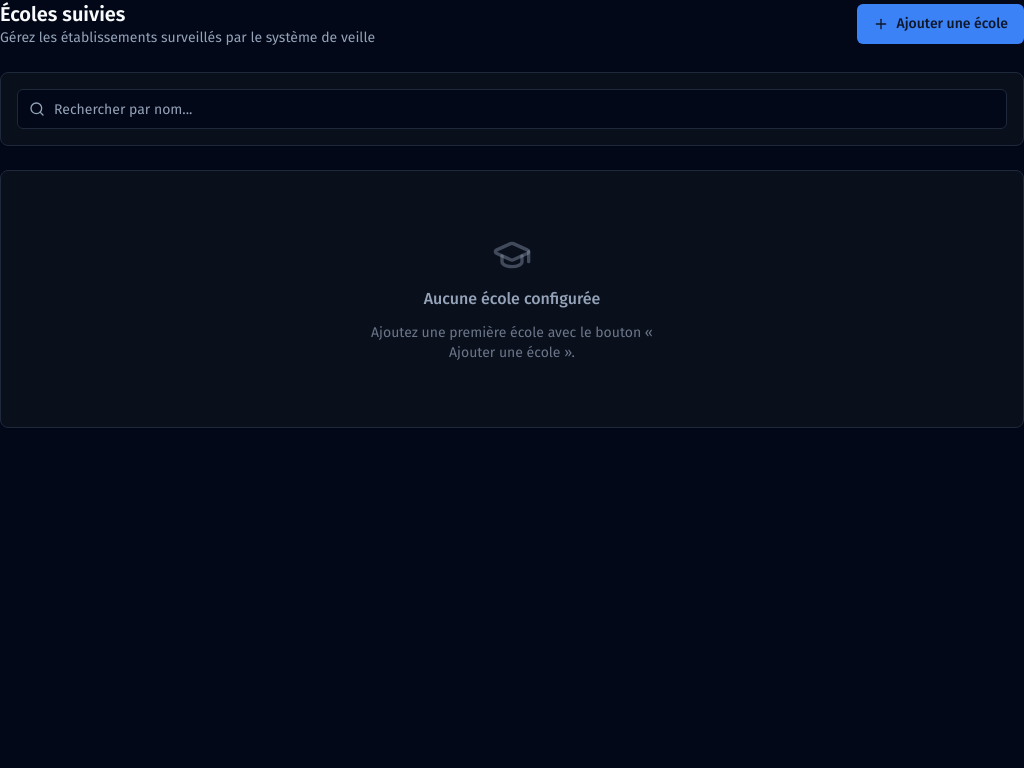
SchoolFormDialog › opens create dialog when "Ajouter une école" is clicked
Expected: the text "Aucune école configurée" is shown, [424, 287, 600, 311]
What coordinates should you click on to do the following:
click the button "Ajouter une école"
I would click on:
 (940, 24)
Its box is [856, 4, 1023, 44].
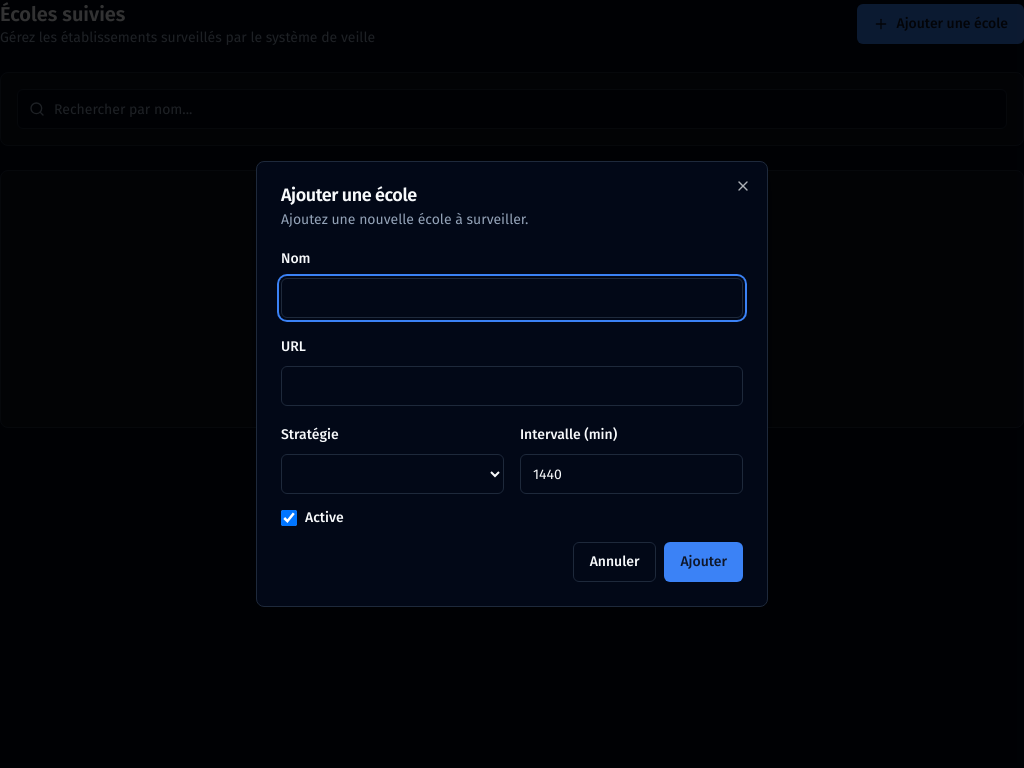
Expected: the field labelled "URL" is empty, [281, 366, 743, 406]
Result: the dialog is shown at [256, 161, 768, 607]
Result: the field labelled "Nom" is empty at [281, 278, 743, 318]
